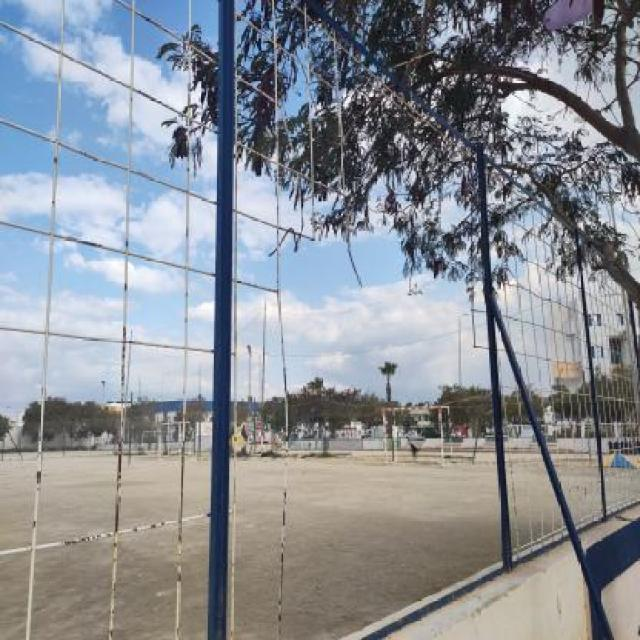fence line: (284, 189, 510, 635)
